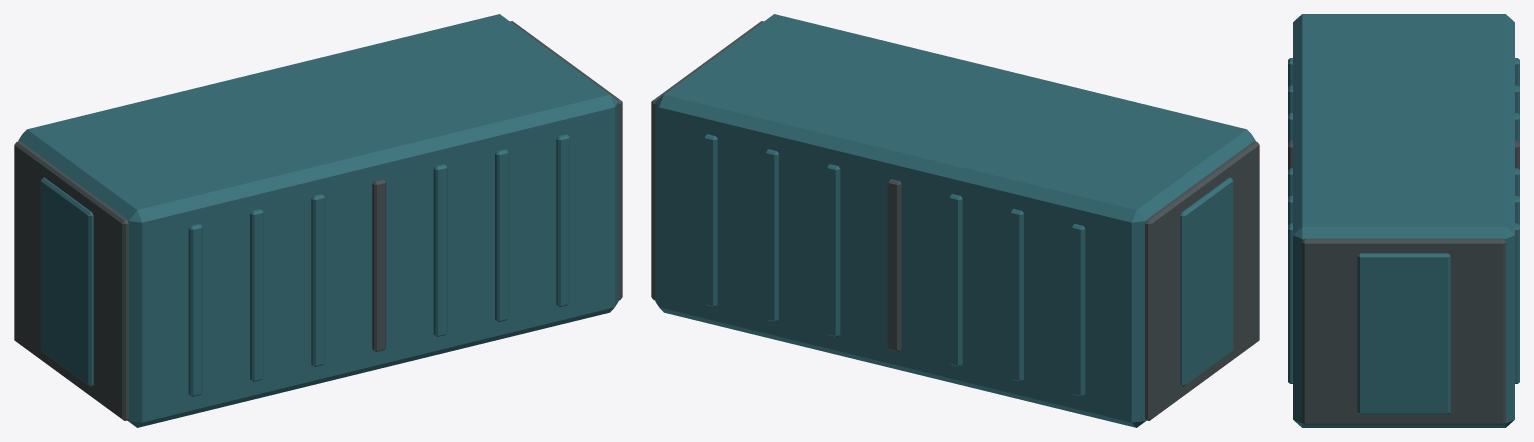
Rendered from wb_container_petrol.glb.
3 renders of one model, left to right at view 1: azimuth 30°, elevation 25°; view 2: azimuth 150°, elevation 25°; view 3: azimuth 270°, elevation 25°, orthographic. The views are drawn at different scales.
Visible parts, largest first — view 1: wb_container_petrol; view 2: wb_container_petrol; view 3: wb_container_petrol.
Part boxes in pixels (bbox=[...]): wb_container_petrol: bbox=[14, 14, 622, 427]; wb_container_petrol: bbox=[651, 14, 1259, 427]; wb_container_petrol: bbox=[1288, 14, 1519, 427].
Bounding box in the file's own units: 2.07 × 0.85 × 0.888.
